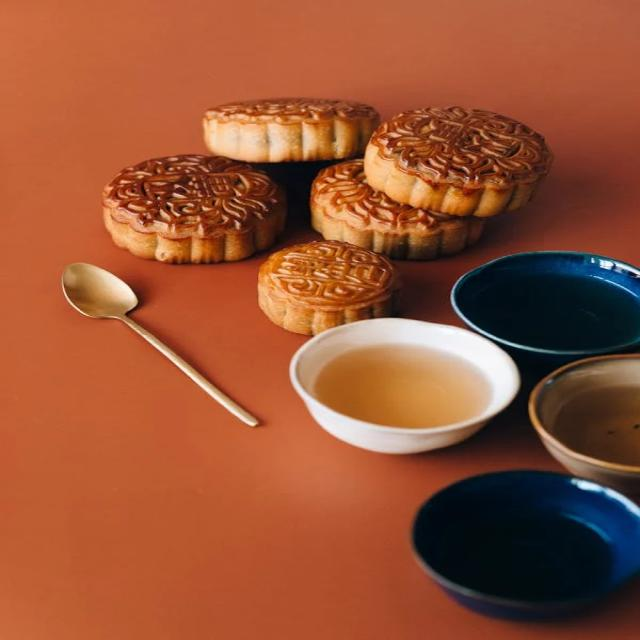spoon: (65, 266, 260, 429)
